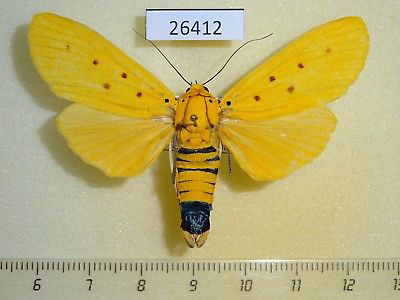Agape chloropyga: (23, 12, 371, 249)
moth: (25, 12, 373, 249)
